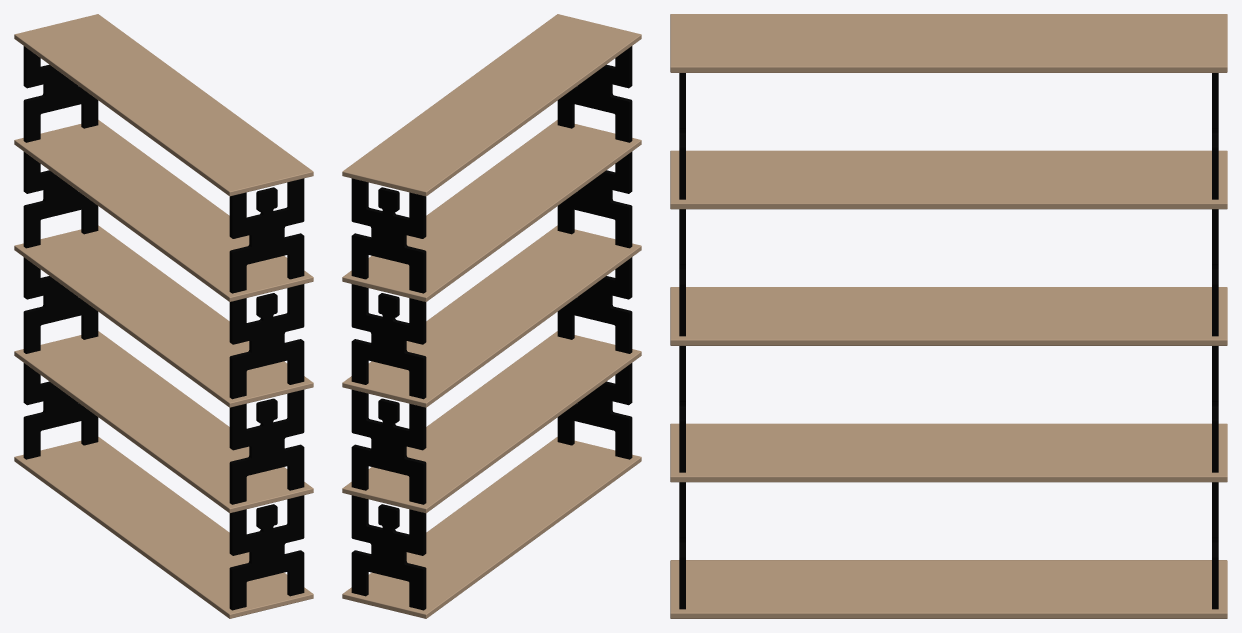
The model's file is middleman.glb.
3 views of the same model, side by side, from view 1: azimuth 30°, elevation 25°; view 2: azimuth 150°, elevation 25°; view 3: azimuth 270°, elevation 25° (orthographic). The views are drawn at different scales.
Visible parts, largest first — view 1: mm-bretter, middleman; view 2: mm-bretter, middleman; view 3: mm-bretter, middleman.
Boxes of the visible parts, x1,y1,x2,y2 form: mm-bretter: (14, 14, 313, 618); middleman: (23, 46, 304, 610); mm-bretter: (342, 14, 641, 618); middleman: (351, 46, 632, 610); mm-bretter: (670, 14, 1227, 618); middleman: (679, 73, 1218, 609).
Size of the model in its own units: 0.35 by 1.69 by 1.55.
